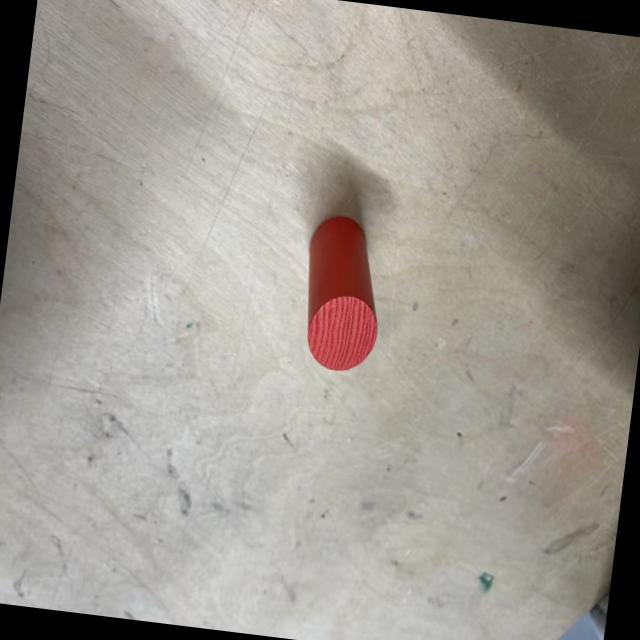red_cylinder: (294, 212, 391, 375)
